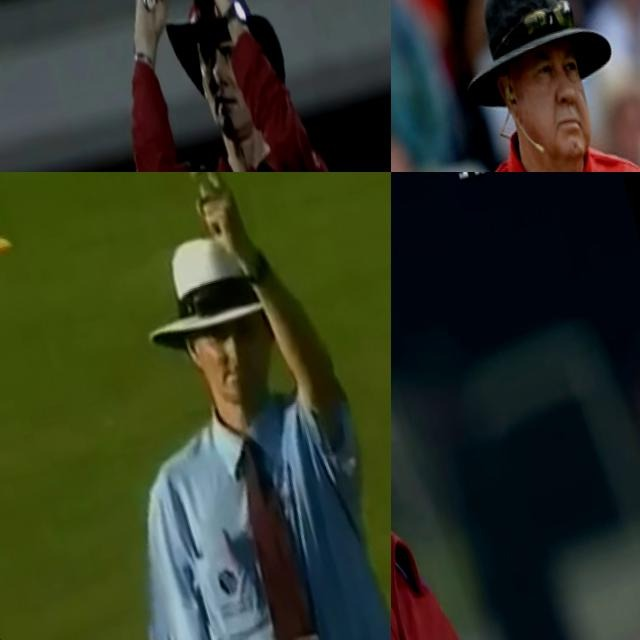No_Action: (391, 172, 506, 640)
No_Ball: (391, 0, 640, 172)
Out: (36, 172, 391, 640)
Six: (64, 0, 391, 172)
